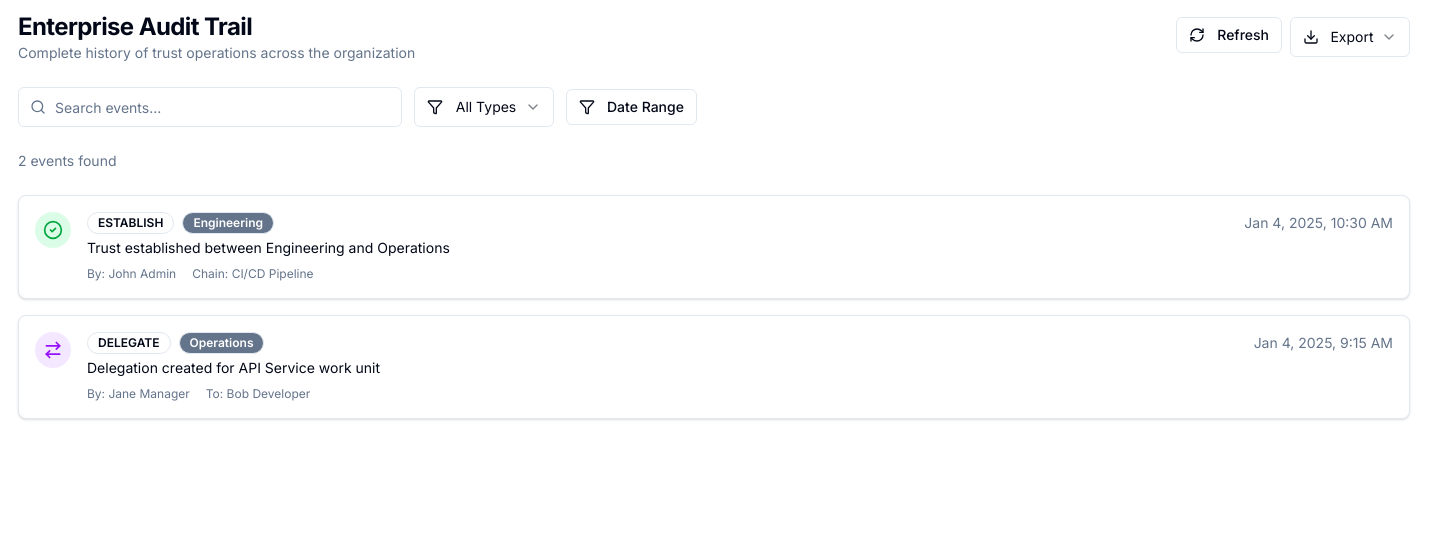
Test case: EnterpriseAuditTrail › event expansion › should collapse event when clicked again
The width and height of the screenshot is (1429, 549).
Click the element with test id "audit-event-row-event-1".
click(714, 247)  # box top-left (18, 195), bottom-right (1410, 299)
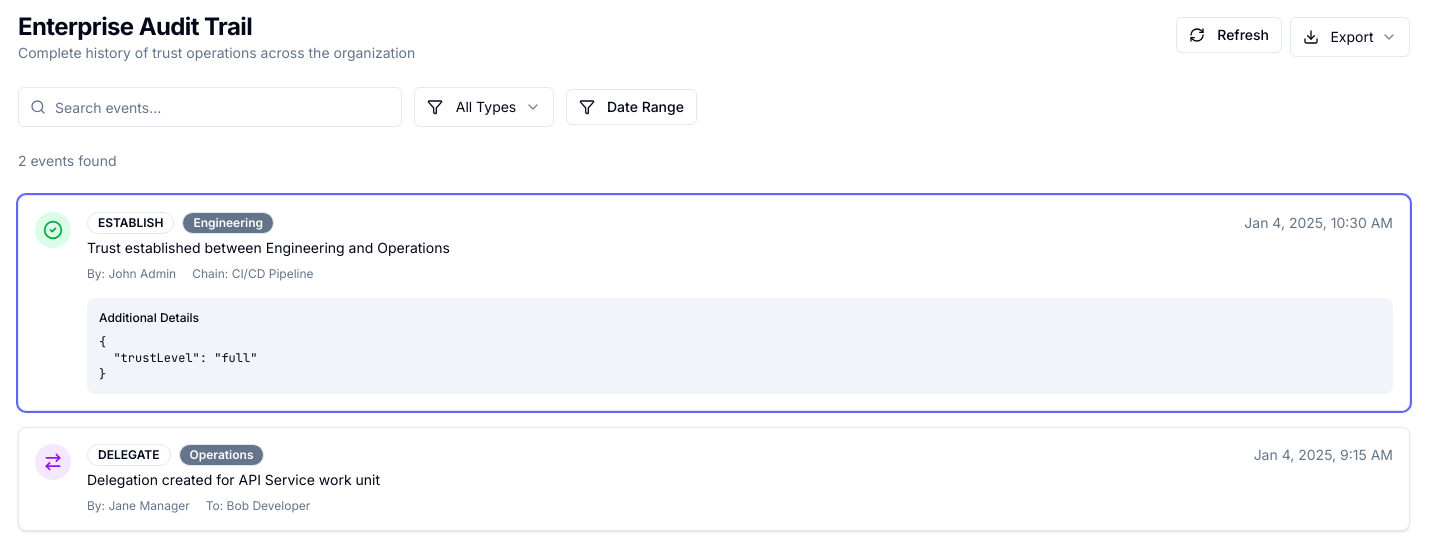
Check: the text "Additional Details" is shown, box top-left (99, 310), bottom-right (199, 325)
Click the element with test id "audit-event-row-event-1".
click(714, 303)  # box top-left (18, 195), bottom-right (1410, 411)
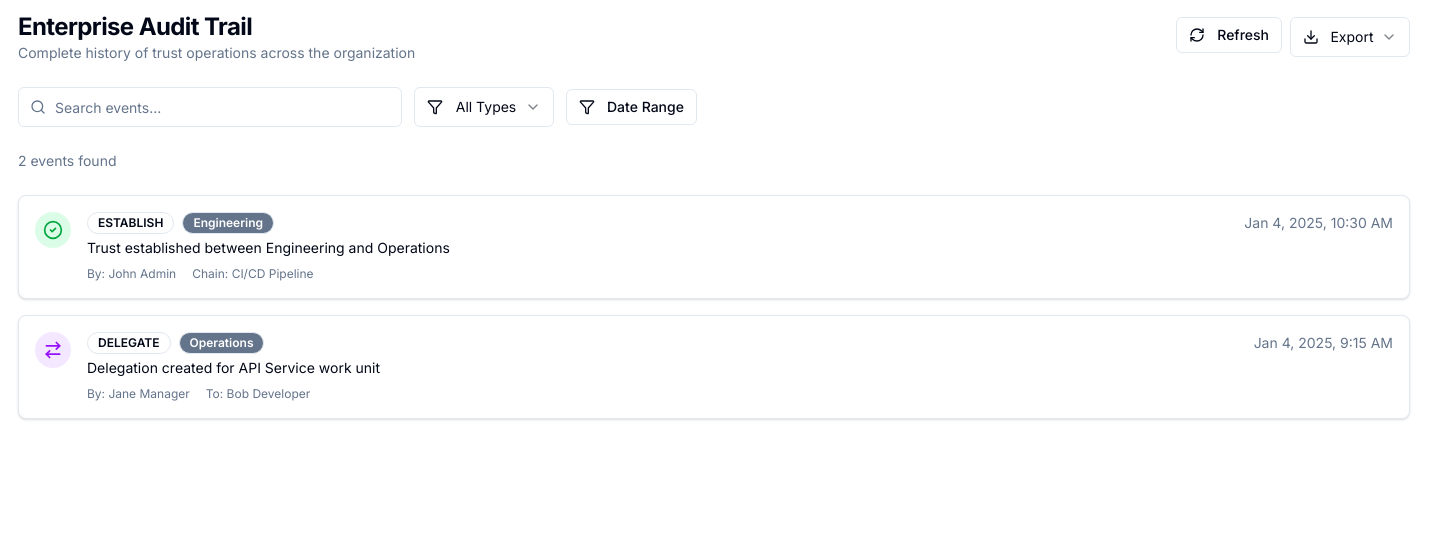
Check: the text "Additional Details" is gone
